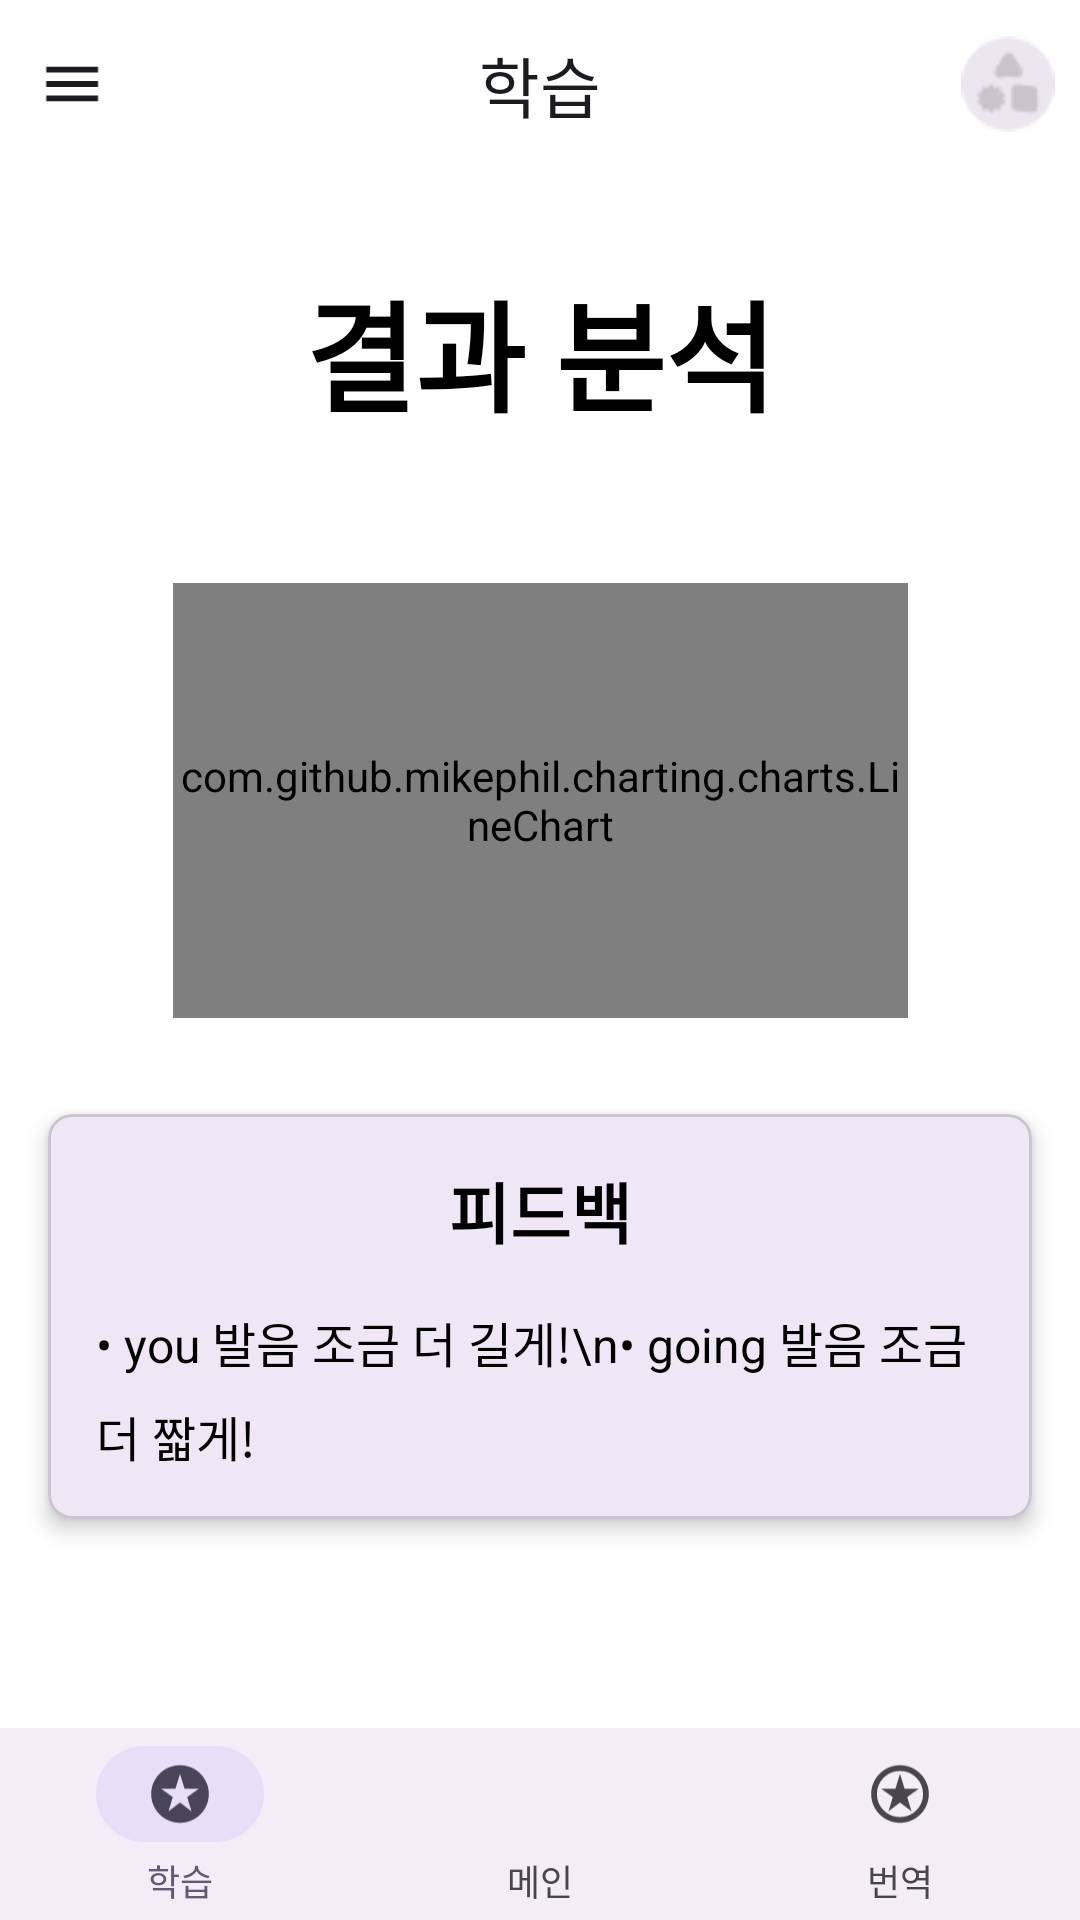

Locate icon controls on the screen. Image size 1080w x 1920h, boxes as bbox(x1, y1, x2, y2).
메뉴: bbox(45, 66, 99, 102)
